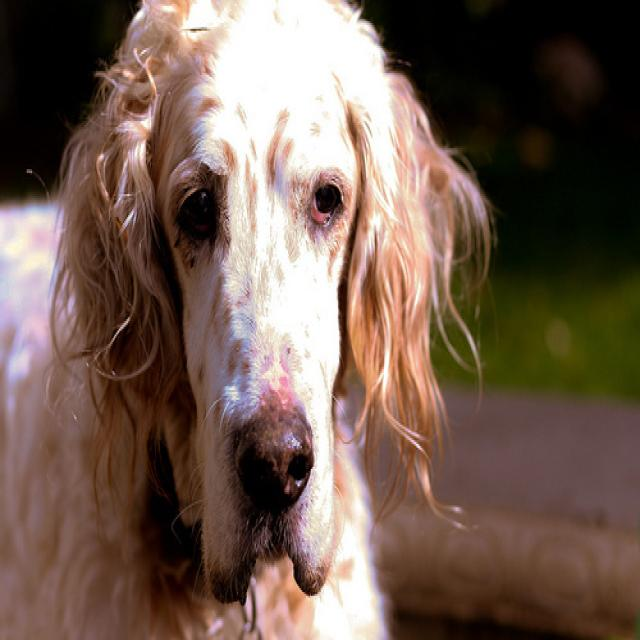dog-english_setter: (1, 2, 503, 636)
